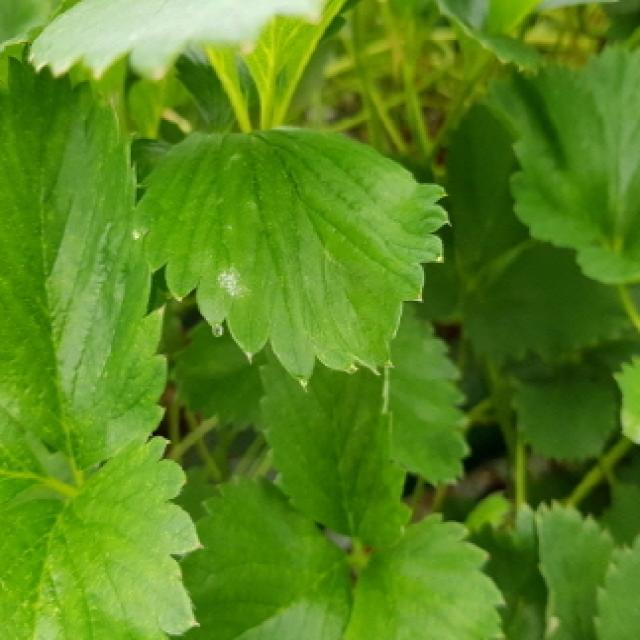Powdery Mildew Leaf: (131, 127, 452, 393), (615, 352, 640, 444)
